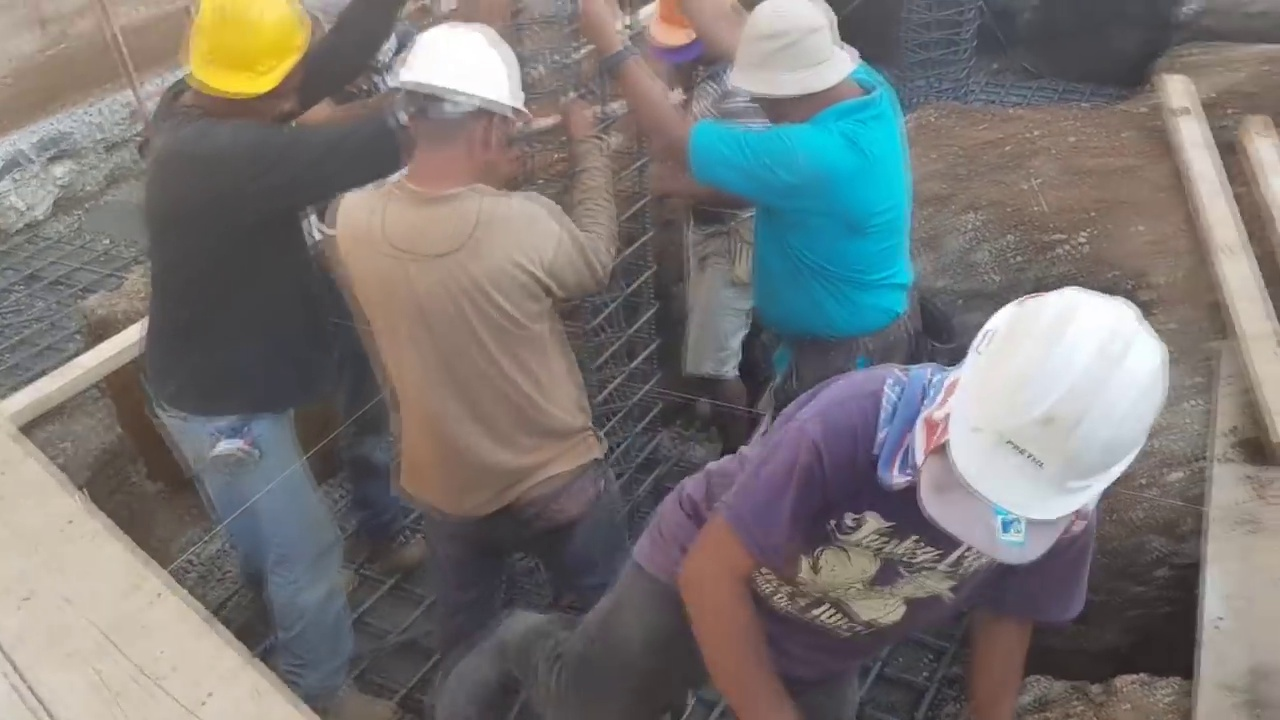helmet: (964, 292, 1161, 516), (387, 23, 538, 134), (176, 6, 310, 106), (643, 9, 698, 52)
helmet-off: (719, 1, 881, 129)
helmet-on: (900, 290, 1165, 560), (384, 22, 539, 195), (164, 3, 319, 128), (641, 0, 728, 84)
person: (439, 297, 1167, 720), (151, 0, 490, 720), (338, 15, 670, 720), (572, 1, 914, 368), (616, 0, 762, 458)
